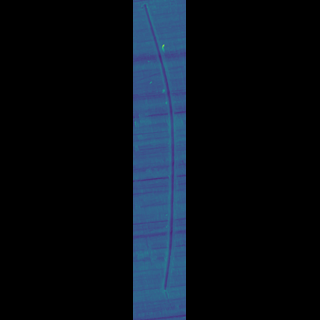Loch: (156, 2, 162, 313)
